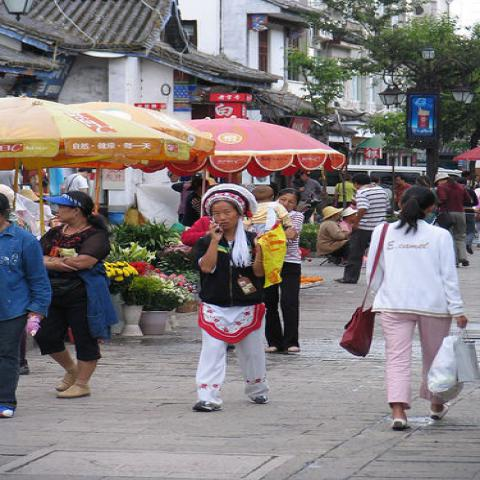bus: (325, 164, 426, 196)
car: (326, 165, 463, 195), (473, 188, 479, 223)
